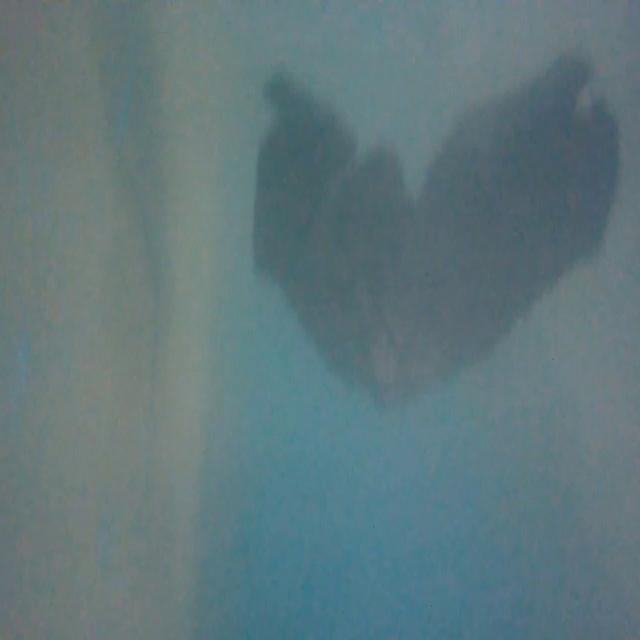plastic bags: (249, 58, 620, 420)
